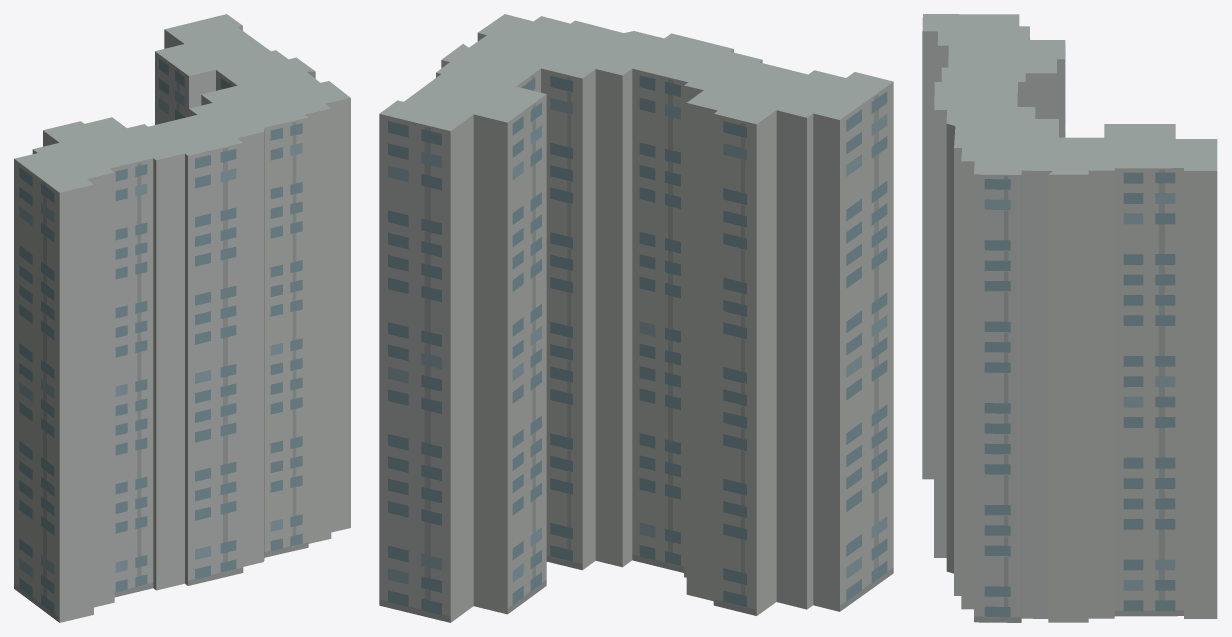
The model's file is residential-19a56463-d855-40ed-87ab-a23c7c6fdba2.glb.
3 renders of one model, left to right at view 1: azimuth 30°, elevation 25°; view 2: azimuth 150°, elevation 25°; view 3: azimuth 270°, elevation 25°, orthographic. The views are drawn at different scales.
Parts seen in each view (by area): view 1: residential-19a56463-d855-40ed-87ab-a23c7c6fdba2.tmp; view 2: residential-19a56463-d855-40ed-87ab-a23c7c6fdba2.tmp; view 3: residential-19a56463-d855-40ed-87ab-a23c7c6fdba2.tmp.
Part boxes in pixels (bbox=[...]): residential-19a56463-d855-40ed-87ab-a23c7c6fdba2.tmp: bbox=[14, 14, 350, 622]; residential-19a56463-d855-40ed-87ab-a23c7c6fdba2.tmp: bbox=[379, 14, 893, 622]; residential-19a56463-d855-40ed-87ab-a23c7c6fdba2.tmp: bbox=[922, 14, 1217, 622].
Size of the model in its own units: 50.87 by 66 by 39.39.
